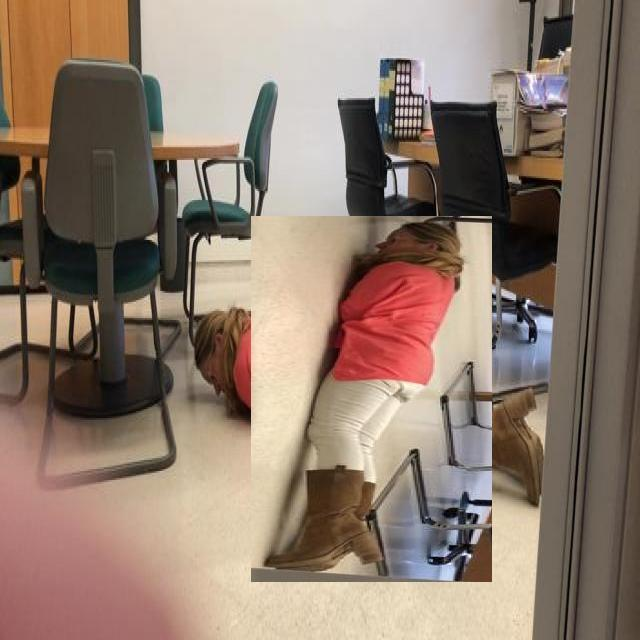Fall: (267, 229, 479, 572)
